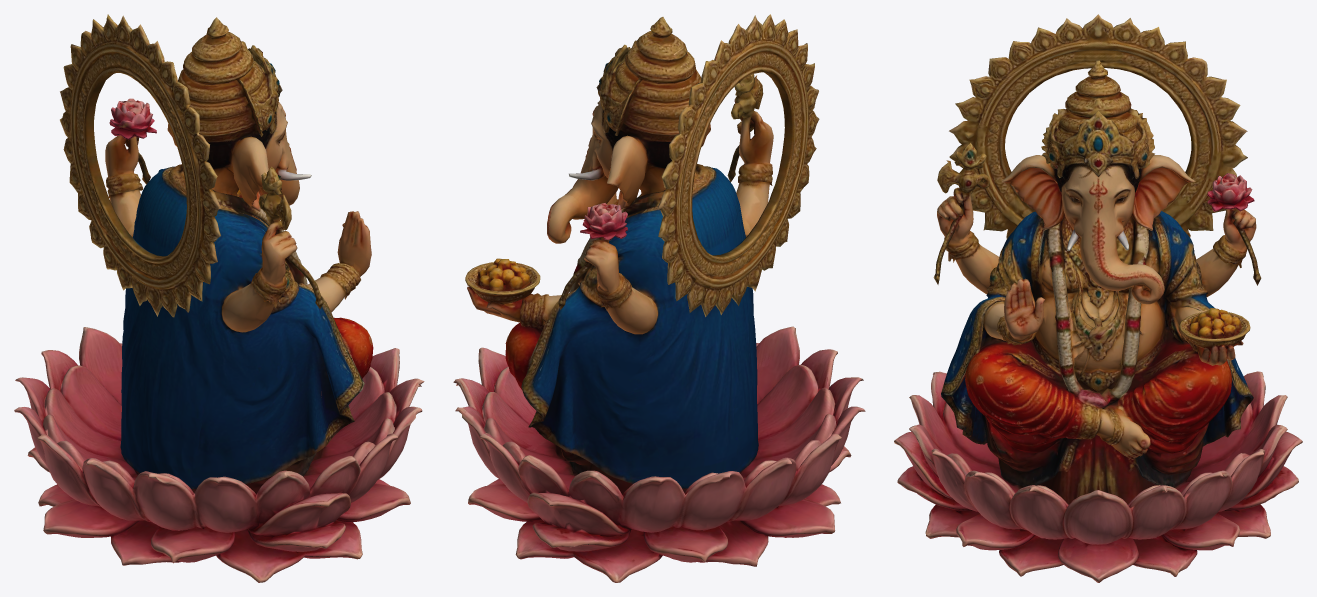
The model's file is sample.glb.
The picture shows the model from 3 angles, left to right: view 1: azimuth 30°, elevation 25°; view 2: azimuth 150°, elevation 25°; view 3: azimuth 270°, elevation 25°; orthographic projection. The views are drawn at different scales.
Visible parts, largest first — view 1: tripo_node_0ea4a065-78b1-4ebe-a17f-bbc6f43bdf31_0; view 2: tripo_node_0ea4a065-78b1-4ebe-a17f-bbc6f43bdf31_0; view 3: tripo_node_0ea4a065-78b1-4ebe-a17f-bbc6f43bdf31_0.
Boxes of the visible parts, box(x1,y1,x2,y2) form: tripo_node_0ea4a065-78b1-4ebe-a17f-bbc6f43bdf31_0: box(14, 14, 424, 582); tripo_node_0ea4a065-78b1-4ebe-a17f-bbc6f43bdf31_0: box(453, 14, 865, 582); tripo_node_0ea4a065-78b1-4ebe-a17f-bbc6f43bdf31_0: box(894, 14, 1302, 582).
Size of the model in its own units: 0.7553 by 1 by 0.7914.
Materials: 1 (1 with a texture image).
